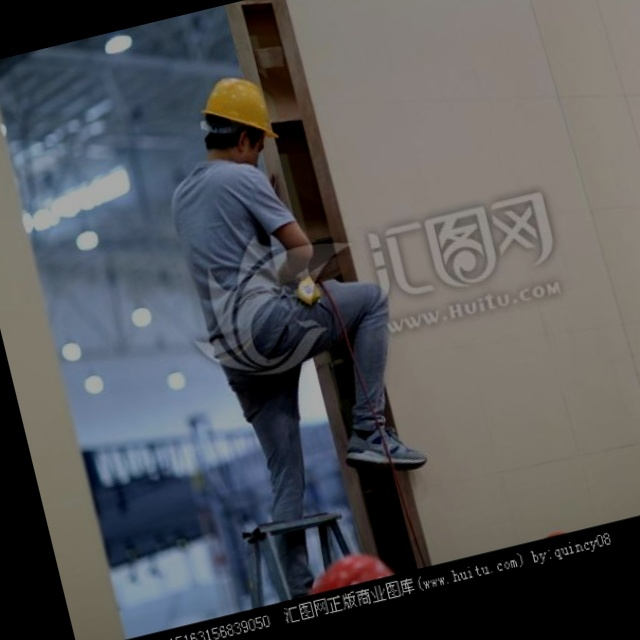Con_Casco: (191, 69, 280, 172)
